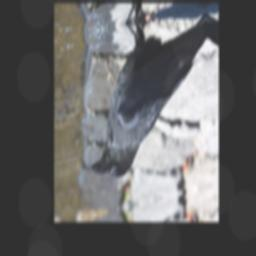Crow: (78, 3, 215, 186)
